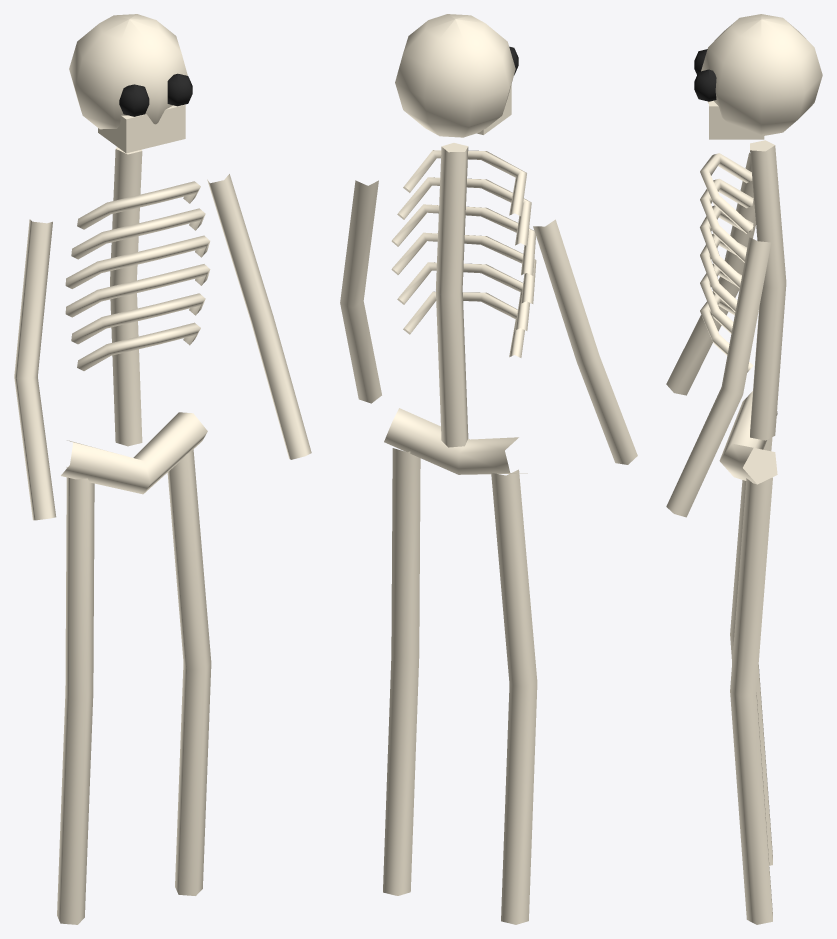
The model's file is hanged.glb.
3 renders of one model, left to right at view 1: azimuth 30°, elevation 25°; view 2: azimuth 150°, elevation 25°; view 3: azimuth 270°, elevation 25°, orthographic.
Parts seen in each view (by area): view 1: hanged; view 2: hanged; view 3: hanged.
Part boxes in pixels (box(x1,y1,x2,y2)): hanged: box(14, 14, 311, 924); hanged: box(340, 14, 637, 924); hanged: box(666, 14, 822, 924).
Size of the model in its own units: 0.5893 by 1.81 by 0.2942.
